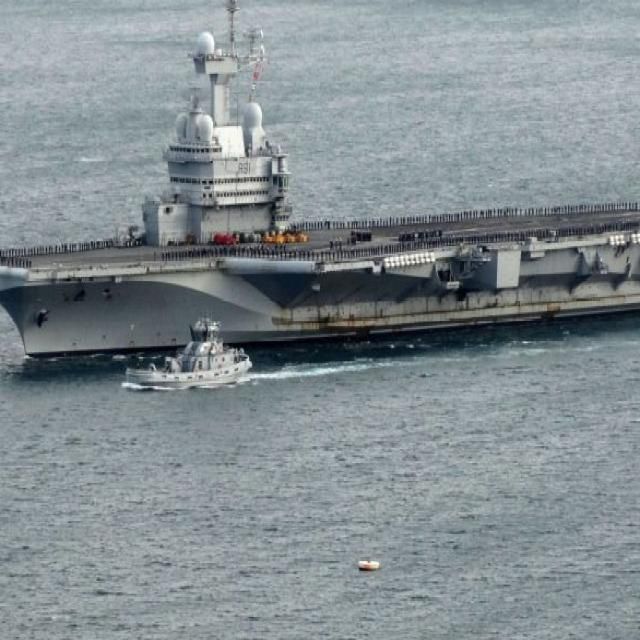Portanaves: (1, 1, 640, 369)
